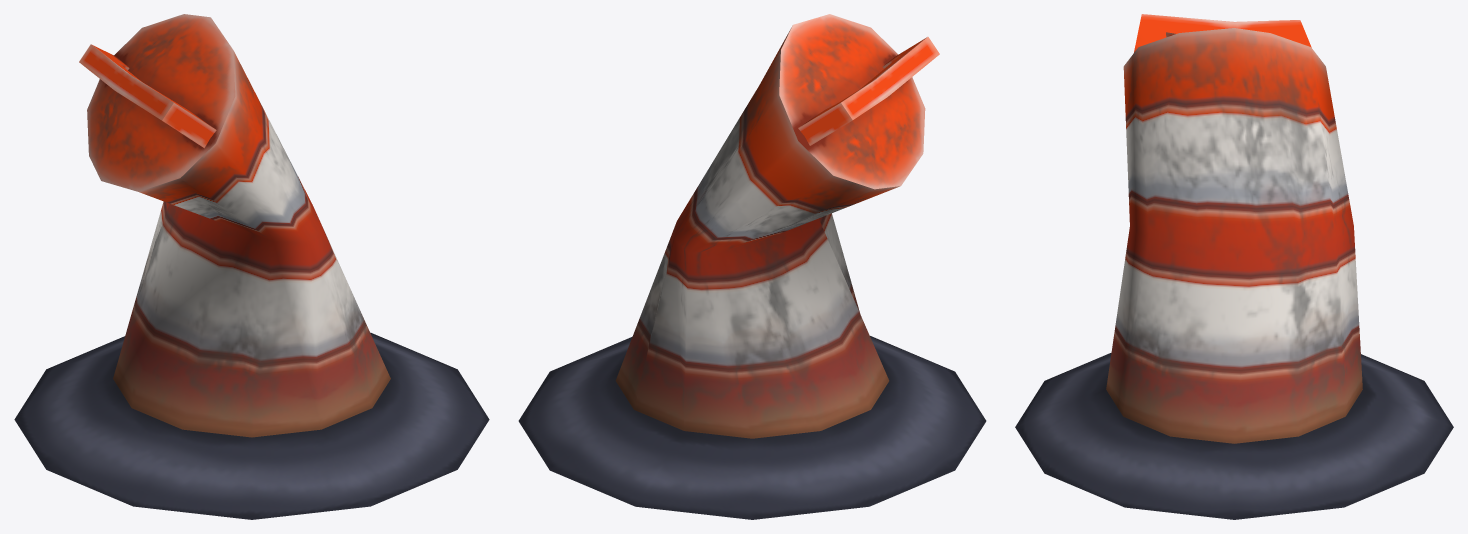
File: trafficCone02_B.fbx
3 views of the same model, side by side, from view 1: azimuth 30°, elevation 25°; view 2: azimuth 150°, elevation 25°; view 3: azimuth 270°, elevation 25° (orthographic). The views are drawn at different scales.
Visible parts, largest first — view 1: trafficCone02_B; view 2: trafficCone02_B; view 3: trafficCone02_B.
Part boxes in pixels (box(x1,y1,x2,y2)): trafficCone02_B: box(14, 14, 489, 519); trafficCone02_B: box(518, 14, 986, 519); trafficCone02_B: box(1015, 14, 1453, 519).
Bounding box in the file's own units: 101 × 96.9 × 101.
